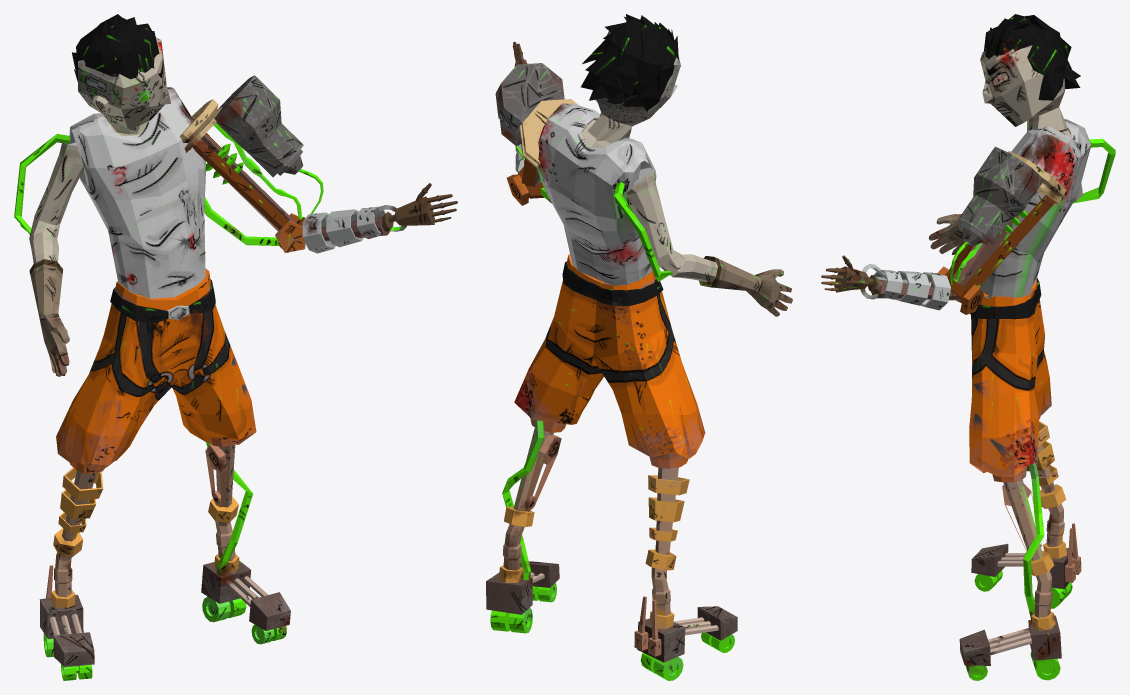
The model's file is CyborgFINALAnimation_000020.obj.
3 views of the same model, side by side, from view 1: azimuth 30°, elevation 25°; view 2: azimuth 150°, elevation 25°; view 3: azimuth 270°, elevation 25° (orthographic). The views are drawn at different scales.
Visible parts, largest first — view 1: CyborgMesh_Cube.002; view 2: CyborgMesh_Cube.002; view 3: CyborgMesh_Cube.002.
Part boxes in pixels (box(x1,y1,x2,y2)): CyborgMesh_Cube.002: box(14, 14, 457, 680); CyborgMesh_Cube.002: box(486, 14, 792, 680); CyborgMesh_Cube.002: box(821, 14, 1115, 680).
Size of the model in its own units: 5.31 by 9.53 by 4.2.
